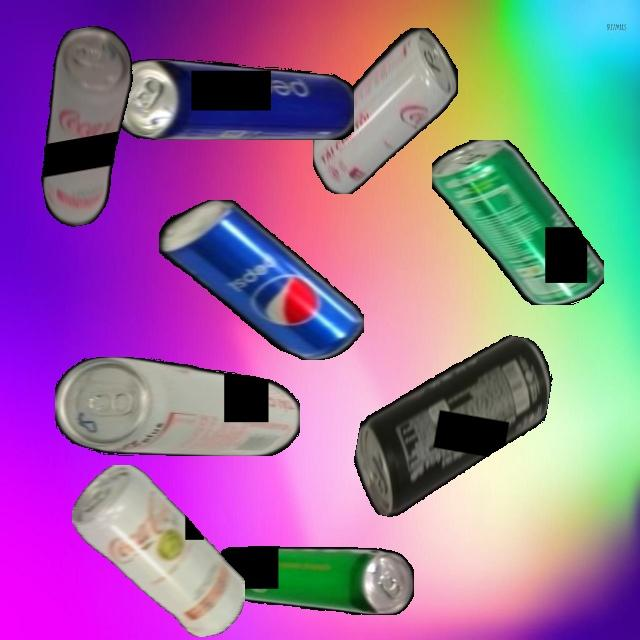debris: (346, 313, 558, 540), (158, 200, 364, 360), (71, 465, 245, 637), (17, 21, 158, 230), (431, 140, 604, 305), (55, 356, 300, 456), (312, 27, 458, 194), (113, 58, 354, 140), (213, 544, 414, 615)
